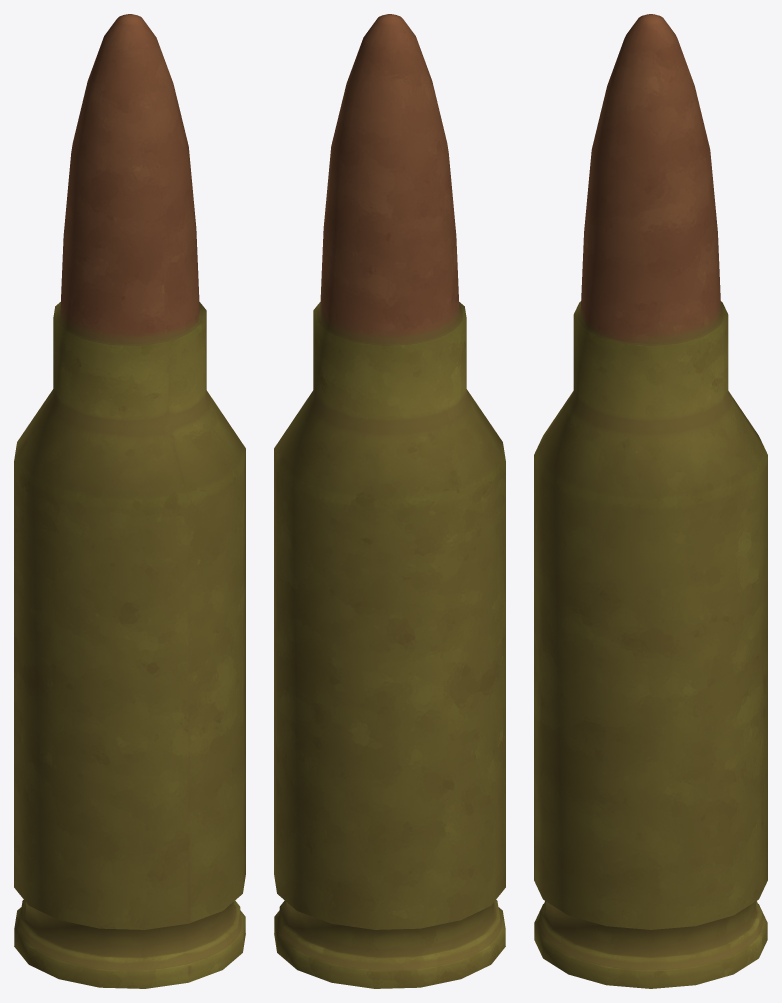
3 views of the same model, side by side, from view 1: azimuth 30°, elevation 25°; view 2: azimuth 150°, elevation 25°; view 3: azimuth 270°, elevation 25° (orthographic).
Parts seen in each view (by area): view 1: Bala_Low; view 2: Bala_Low; view 3: Bala_Low.
Boxes of the visible parts, <box> form: Bala_Low: <box>14,14,245,988</box>; Bala_Low: <box>274,14,505,988</box>; Bala_Low: <box>534,14,767,988</box>.
Bounding box in the file's own units: 0.0181 × 0.0791 × 0.0181.
1 material, 1 textured.
